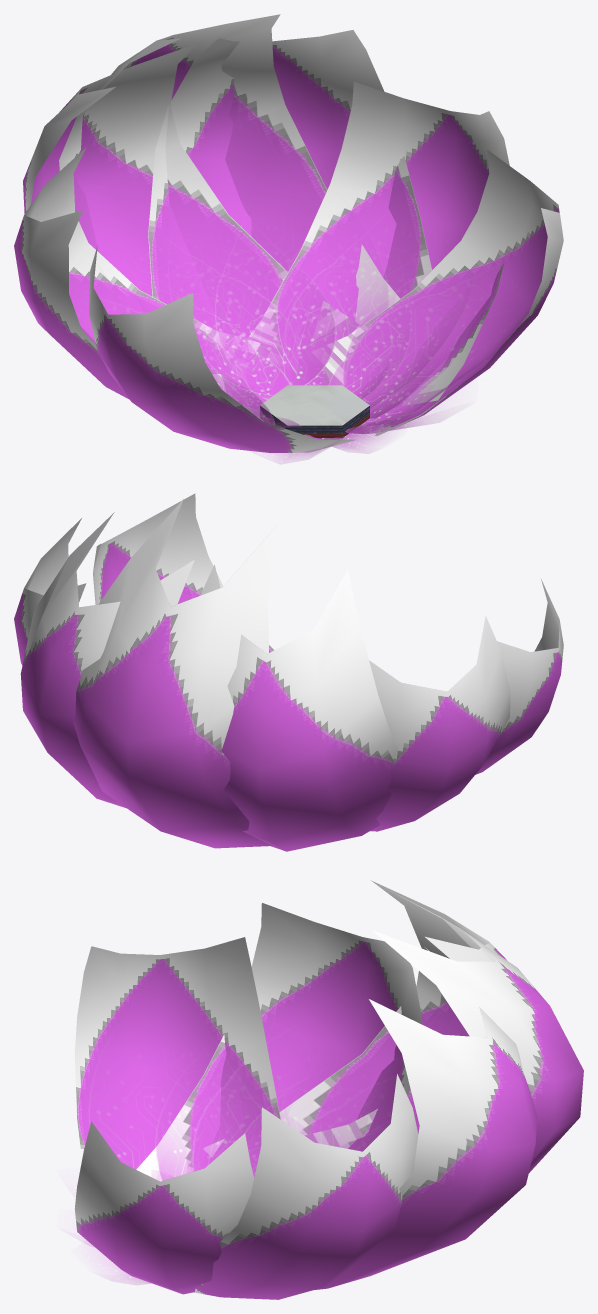
File: altar01-art.glb
3 renders of one model, top to bottom at view 1: azimuth 30°, elevation 25°; view 2: azimuth 150°, elevation 25°; view 3: azimuth 270°, elevation 25°, orthographic. The views are drawn at different scales.
Parts seen in each view (by area): view 1: Altar01_Art; view 2: Altar01_Art; view 3: Altar01_Art.
Part boxes in pixels (x1,y1,x2,y2): Altar01_Art: (14,14,563,463); Altar01_Art: (14,493,563,851); Altar01_Art: (74,880,583,1299).
Bounding box in the file's own units: 7.34 × 5.12 × 7.3.
3 materials, 3 textured.
